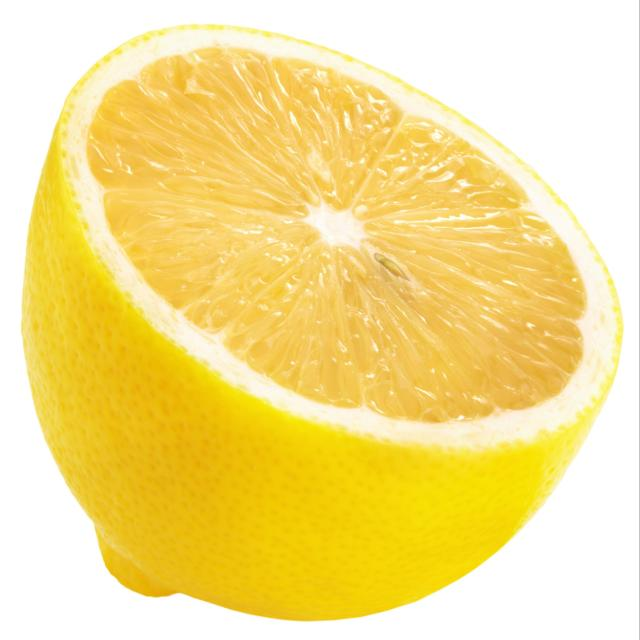lemon: (9, 13, 636, 634)
